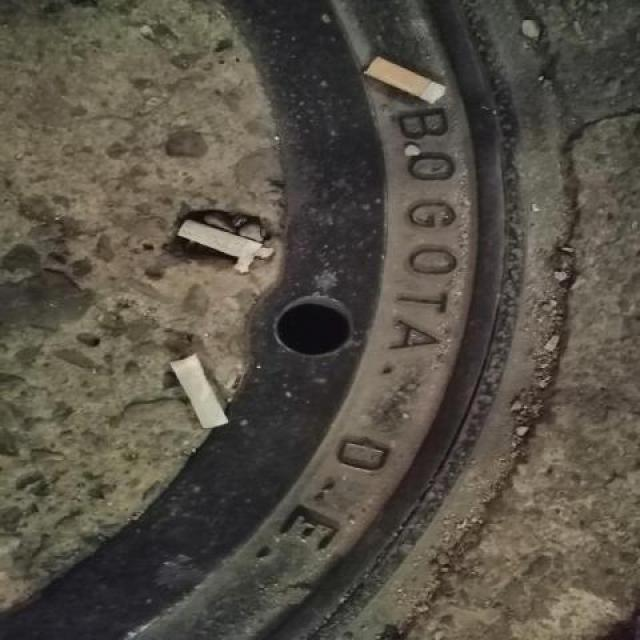non-organic waste: (166, 344, 233, 436), (361, 52, 452, 112), (175, 211, 265, 260)
